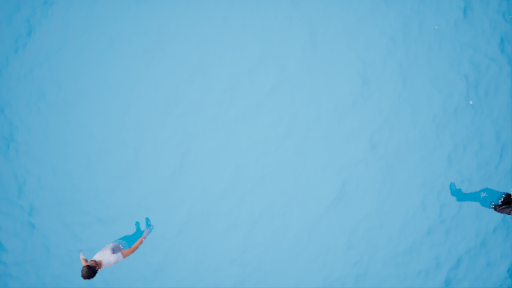person: (73, 216, 157, 282)
